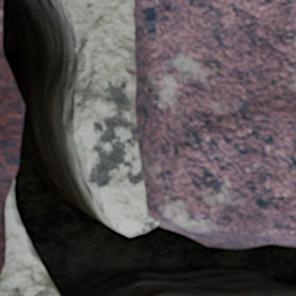brick: (135, 0, 295, 242), (0, 0, 23, 274)
crack: (2, 0, 295, 295)
